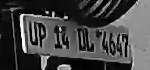1: (51, 24, 63, 52)
4: (60, 25, 70, 52), (100, 32, 109, 56), (115, 34, 122, 57)
6: (108, 33, 116, 57)
7: (122, 34, 130, 58)
D: (77, 29, 86, 51)
L: (85, 27, 95, 54)
P: (37, 21, 48, 48)
U: (27, 21, 39, 46)
